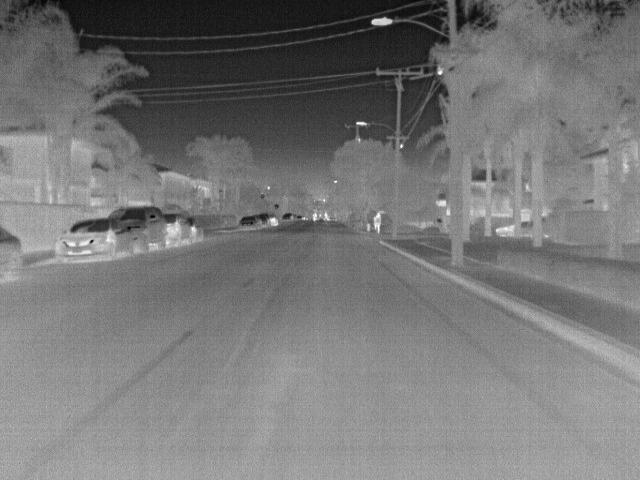car: (54, 220, 133, 262), (107, 206, 167, 253), (0, 226, 22, 282), (158, 212, 191, 246), (186, 218, 205, 240), (237, 214, 261, 230), (493, 222, 512, 237), (517, 220, 531, 239), (256, 214, 269, 228), (267, 214, 279, 227), (282, 211, 295, 222)
person: (371, 211, 383, 235)
